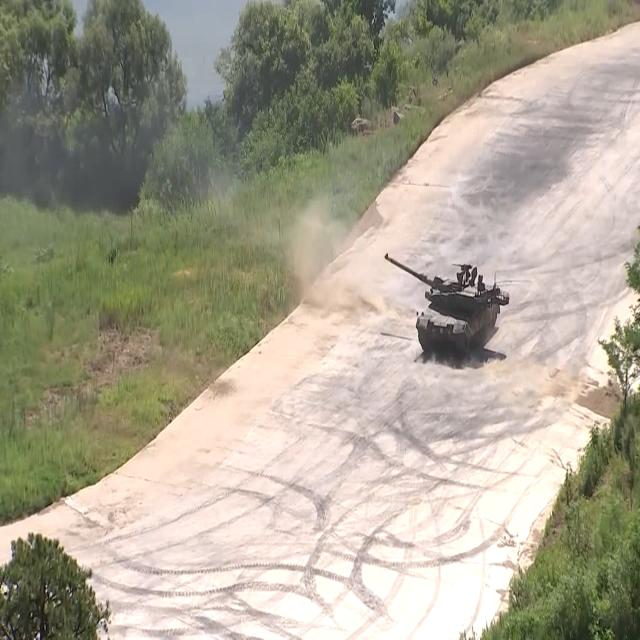korea tank: (383, 250, 511, 357)
